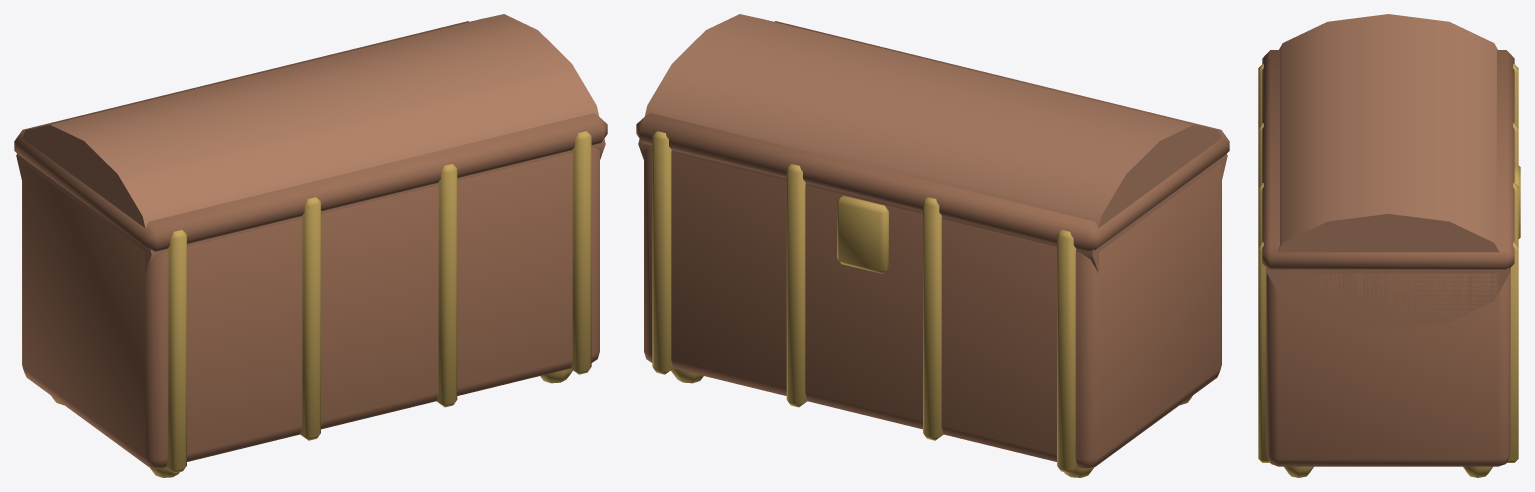
The model's file is chest_trunk.glb.
The picture shows the model from 3 angles, left to right: view 1: azimuth 30°, elevation 25°; view 2: azimuth 150°, elevation 25°; view 3: azimuth 270°, elevation 25°; orthographic projection. The views are drawn at different scales.
Visible parts, largest first — view 1: chest_trunk; view 2: chest_trunk; view 3: chest_trunk.
Part boxes in pixels (x1,y1,x2,y2): chest_trunk: (14,14,607,477); chest_trunk: (636,14,1229,477); chest_trunk: (1258,14,1520,477).
Size of what is drawn, in the model's own units: 1.1 by 0.7 by 0.6.
